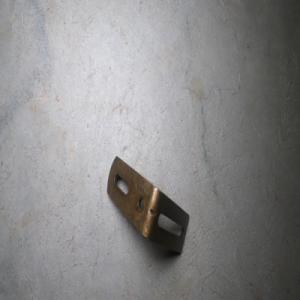MetalPart: (106, 154, 190, 255)
